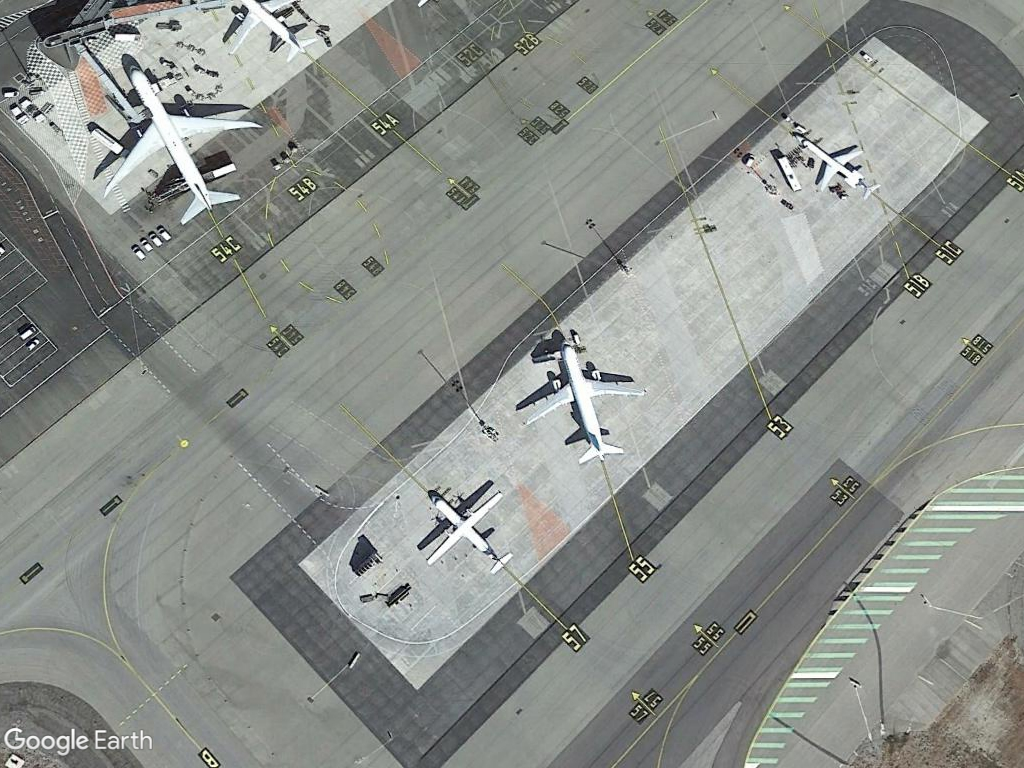airliner: (518, 331, 648, 472)
chartered: (789, 127, 874, 198)
propeller: (414, 486, 516, 579)
